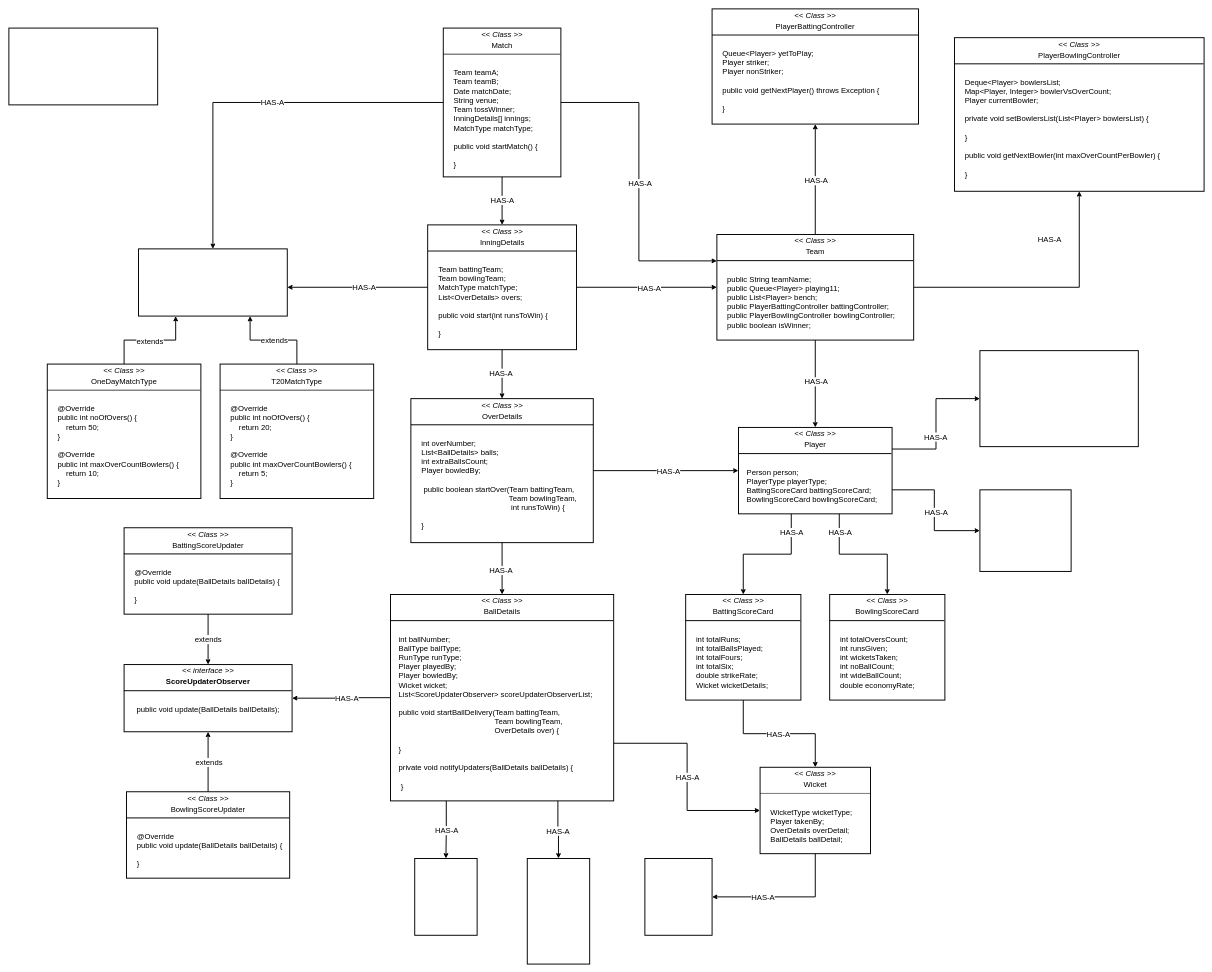
Some shapes in this 1212 by 972 pixel diagram are drawn without their labels. The shapes that lost their labels are listed below. From the top down, each one's centre as x and y in pixels, then its label:
At point 83,66: "<< Class >> CricbuzzMatchDayDriver public static void startMatch() { }".
At point 213,282: "<< interface >> MatchType public void ls(int spaces);".
At point 1059,398: "<< enum >> PlayerType BATSMAN, BOWLER, WICKETKEEPER, CAPTAIN, ALLROUNDER;".
At point 1025,530: "<< Class >> Person String name; int age; String address;".
At point 445,897: "<< enum >> BallType NORMAL, WIDEBALL, NOBALL;".
At point 558,911: "<< enum >> RunType ZERO, ONE, TWO, THREE, FOUR, SIX;".
At point 678,897: "<< enum >> WicketType RUNOUT, BOLD, CATCH;".
